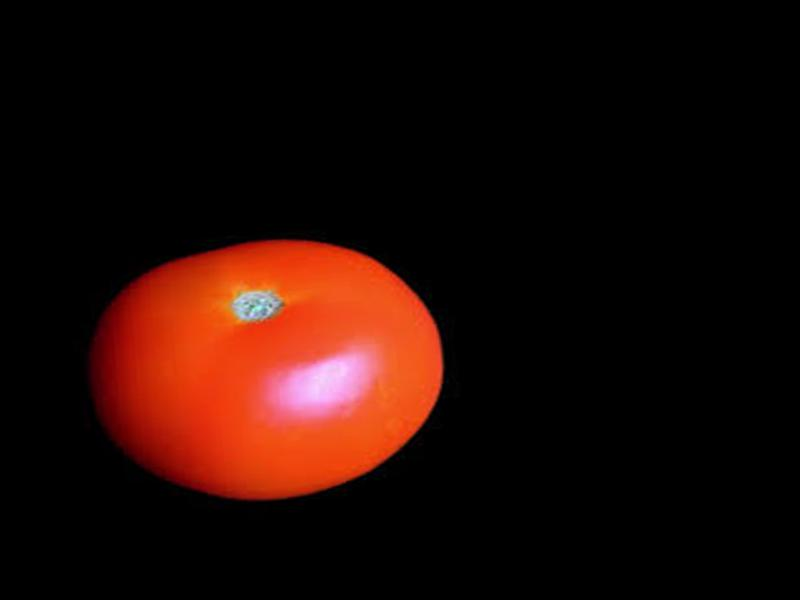Tomato: (79, 227, 454, 513)
